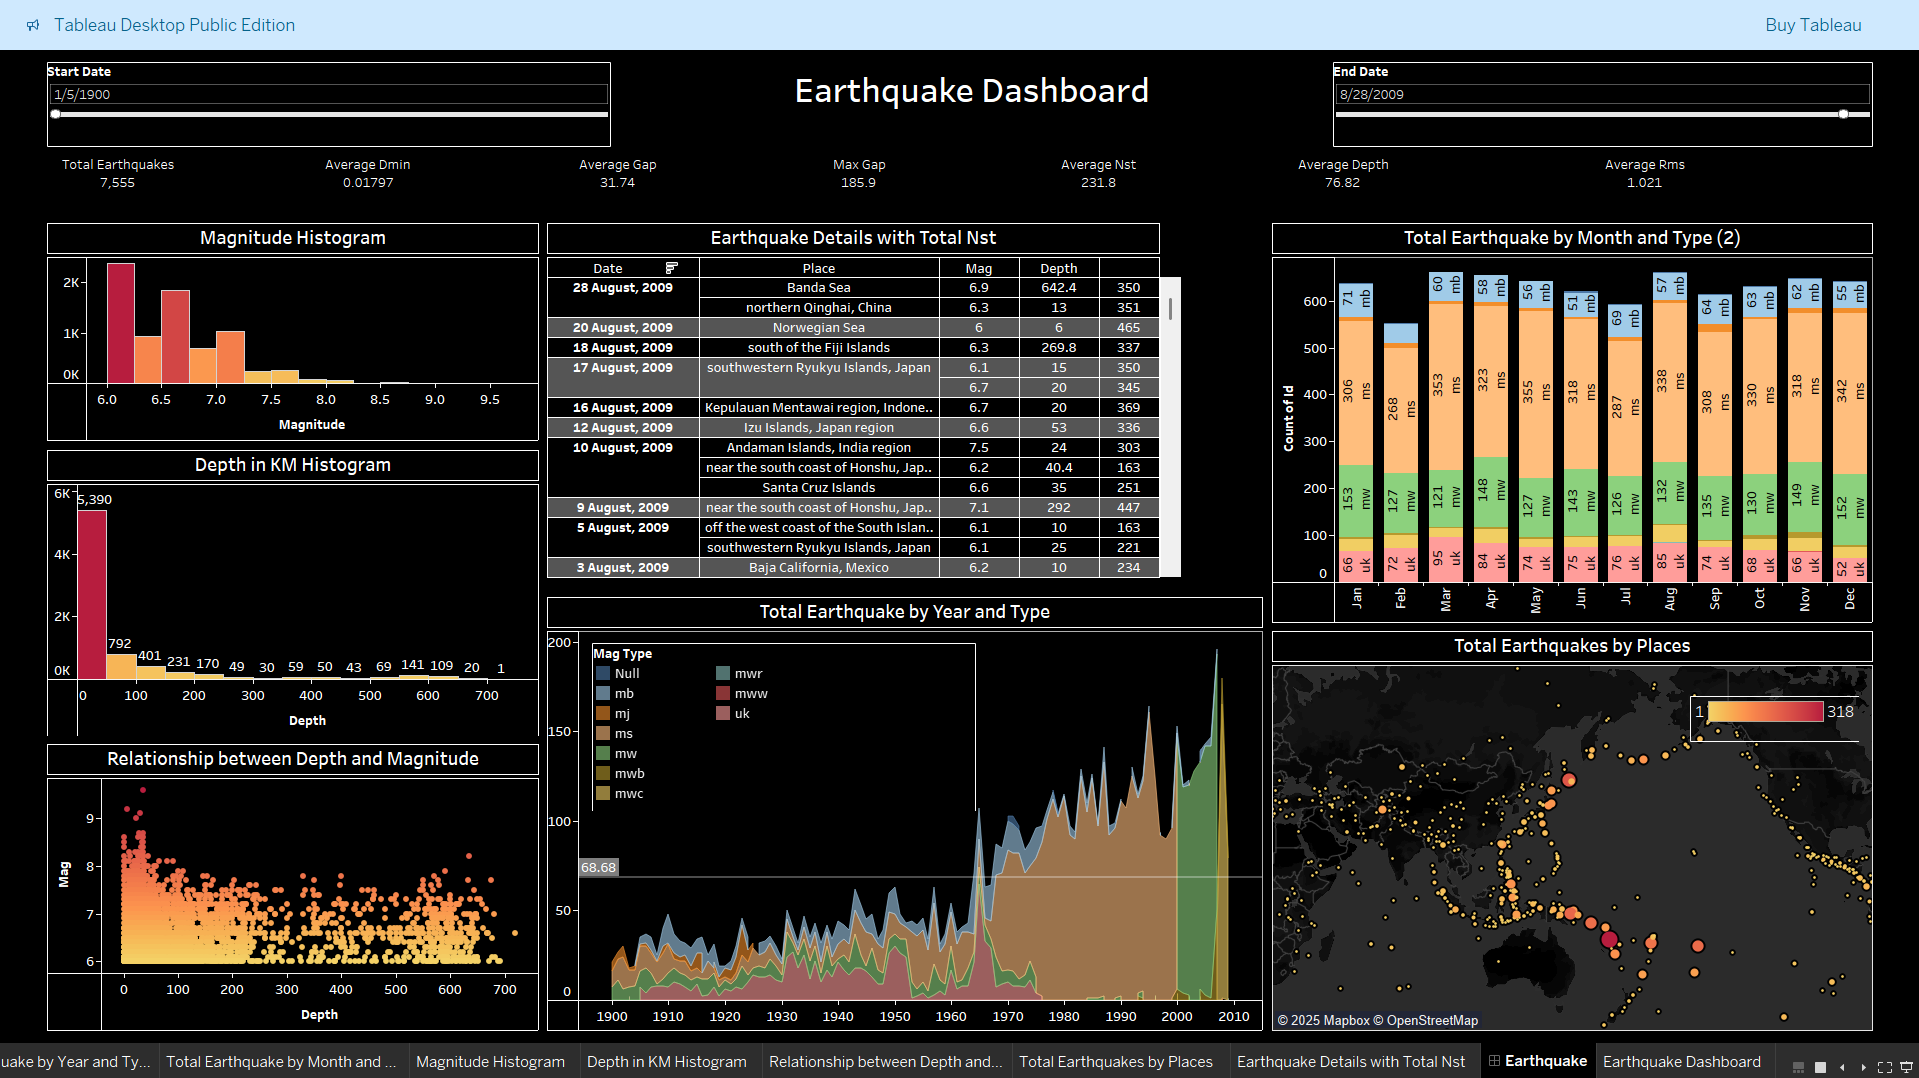

This screenshot's page, from the dashboard's own definition file:
{"tool":"tableau","page":{"name":"Earthquake","canvas":[1000,1000],"units":"permille","ordinal":0},"visuals":[{"type":"parameter","param":"[Parameters].[Parameter 1]","box":[4.8,10,308.9,93.5]},{"type":"worksheet","title":"Earthquake Dashboard","mark":"Automatic","box":[313.7,10,385.7,93.5]},{"type":"parameter","param":"[Parameters].[Parameter 2]","box":[699.4,10,295.8,93.5]},{"type":"worksheet","title":"Sheet 1","mark":"Automatic","box":[4.8,103.5,135.1,68.5]},{"type":"worksheet","title":"Sheet 1 (2)","mark":"Automatic","box":[139.9,103.5,135.2,68.5]},{"type":"worksheet","title":"Sheet 1 (3)","mark":"Automatic","box":[275.1,103.5,129.7,68.5]},{"type":"worksheet","title":"Sheet 1 (7)","mark":"Automatic","box":[404.8,103.5,129.6,68.5]},{"type":"worksheet","title":"Sheet 1 (4)","mark":"Automatic","box":[534.4,103.5,131.8,68.5]},{"type":"worksheet","title":"Sheet 1 (5)","mark":"Automatic","box":[666.2,103.5,163.3,68.5]},{"type":"worksheet","title":"Sheet 1 (6)","mark":"Automatic","box":[829.5,103.5,165.6,68.5]},{"type":"worksheet","title":"Magnitude Histogram","mark":"Automatic","rows":["mag"],"cols":["Mag (bin)"],"box":[4.8,172,270.2,226.8]},{"type":"worksheet","title":"Earthquake Details with Total Nst","mark":"Automatic","rows":["Date","place","mag","depth"],"box":[275.1,172,391.1,374.5]},{"type":"worksheet","title":"Total Earthquake by Month and Type (2)","mark":"Bar","rows":["id"],"cols":["Date"],"box":[666.2,172,329,409]},{"type":"worksheet","title":"Depth in KM Histogram","mark":"Automatic","rows":["depth"],"cols":["Depth (bin)"],"box":[4.8,398.8,270.2,295.6]},{"type":"worksheet","title":"Total Earthquake by Year and Type","mark":"Area","rows":["id"],"cols":["Date"],"box":[275.1,546.5,391.1,443.5]},{"type":"worksheet","title":"Total Earthquakes by Places","mark":"Automatic","rows":["latitude"],"cols":["longitude"],"box":[666.2,581,329,409]},{"type":"legend","title":"Total Earthquake by Year and Type","param":"[federated.16g9vz41cjj30413a721m0ce5vyj].[none:magType:nk]","box":[301.2,596.8,207.6,169.8]},{"type":"legend","title":"Total Earthquakes by Places","param":"[federated.16g9vz41cjj30413a721m0ce5vyj].[cnt:id:qk]","box":[894.4,650.4,91.7,46.2]},{"type":"worksheet","title":"Relationship between Depth and Magnitude","mark":"Automatic","rows":["mag"],"cols":["depth"],"box":[4.8,694.3,270.2,295.7]}]}

Visuals, with their boxes on the dashboard's canvas, which has no fixed pixel size, in thousandths of its width and height (x1, y1, x2, y2). These are canvas units, not pixel positions in the 1919x1078 screenshot, which may show the page scaled, cropped or inside an application window:
parameter: [x1=5, y1=10, x2=314, y2=104]
"Earthquake Dashboard" worksheet: [x1=314, y1=10, x2=699, y2=104]
parameter: [x1=699, y1=10, x2=995, y2=104]
"Sheet 1" worksheet: [x1=5, y1=104, x2=140, y2=172]
"Sheet 1 (2)" worksheet: [x1=140, y1=104, x2=275, y2=172]
"Sheet 1 (3)" worksheet: [x1=275, y1=104, x2=405, y2=172]
"Sheet 1 (7)" worksheet: [x1=405, y1=104, x2=534, y2=172]
"Sheet 1 (4)" worksheet: [x1=534, y1=104, x2=666, y2=172]
"Sheet 1 (5)" worksheet: [x1=666, y1=104, x2=830, y2=172]
"Sheet 1 (6)" worksheet: [x1=830, y1=104, x2=995, y2=172]
"Magnitude Histogram" worksheet: [x1=5, y1=172, x2=275, y2=399]
"Earthquake Details with Total Nst" worksheet: [x1=275, y1=172, x2=666, y2=546]
"Total Earthquake by Month and Type (2)" worksheet (Bar marks): [x1=666, y1=172, x2=995, y2=581]
"Depth in KM Histogram" worksheet: [x1=5, y1=399, x2=275, y2=694]
"Total Earthquake by Year and Type" worksheet (Area marks): [x1=275, y1=546, x2=666, y2=990]
"Total Earthquakes by Places" worksheet: [x1=666, y1=581, x2=995, y2=990]
"Total Earthquake by Year and Type" legend: [x1=301, y1=597, x2=509, y2=767]
"Total Earthquakes by Places" legend: [x1=894, y1=650, x2=986, y2=697]
"Relationship between Depth and Magnitude" worksheet: [x1=5, y1=694, x2=275, y2=990]
